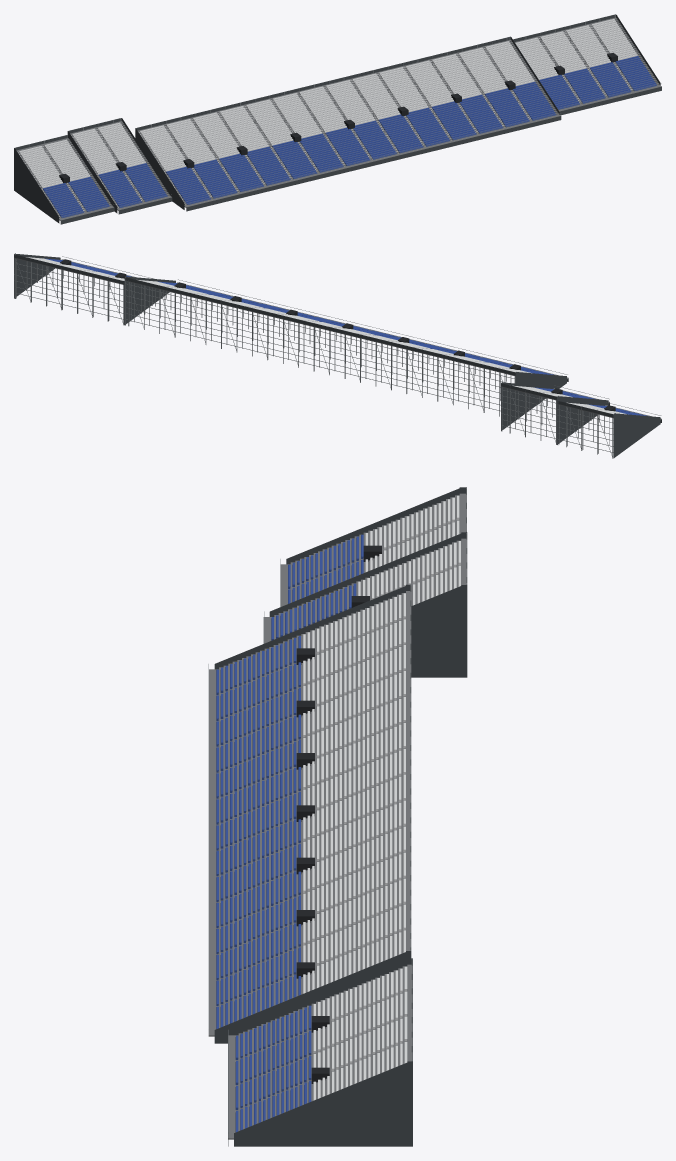
The model's file is rbr_open_rb_s.glb.
3 renders of one model, top to bottom at view 1: azimuth 30°, elevation 25°; view 2: azimuth 150°, elevation 25°; view 3: azimuth 270°, elevation 25°, orthographic. The views are drawn at different scales.
Parts seen in each view (by area): view 1: red-bull-ring-rb-s; view 2: red-bull-ring-rb-s; view 3: red-bull-ring-rb-s.
Boxes of the visible parts, <box> form: red-bull-ring-rb-s: <box>14,14,661,224</box>; red-bull-ring-rb-s: <box>14,253,661,458</box>; red-bull-ring-rb-s: <box>208,487,467,1146</box>.
Size of the model in its own units: 238 by 17.92 by 45.37.
